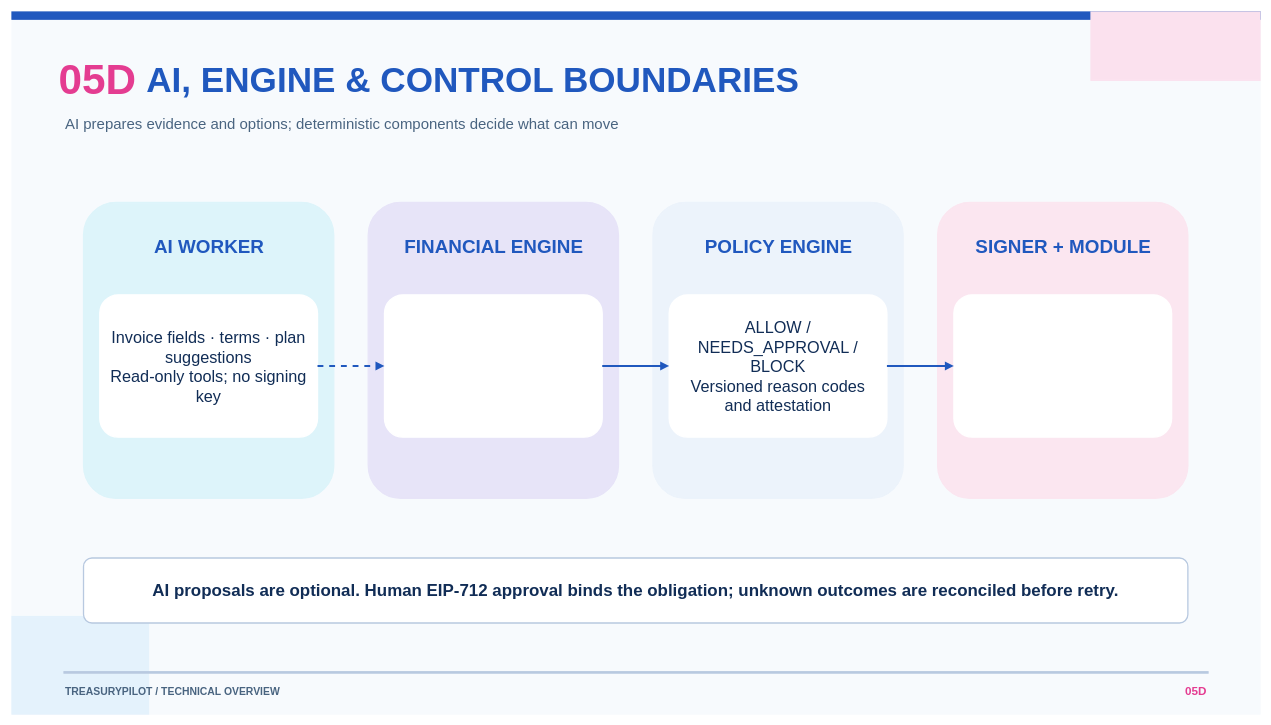
The diagram is 1271 pixels wide and 725 high, and some of its shapes have lost their labels. The shapes that lost their labels are listed below. From the top down, each one's centre as x and y in pixels, then its label:
At [493,365]: "Integer amounts · reserves · EDF / CP-SAT Fresh balances and constraints".
At [1062,365]: "Simulate and sign · then recheck on-chain Payee · caps · floor · replay".
